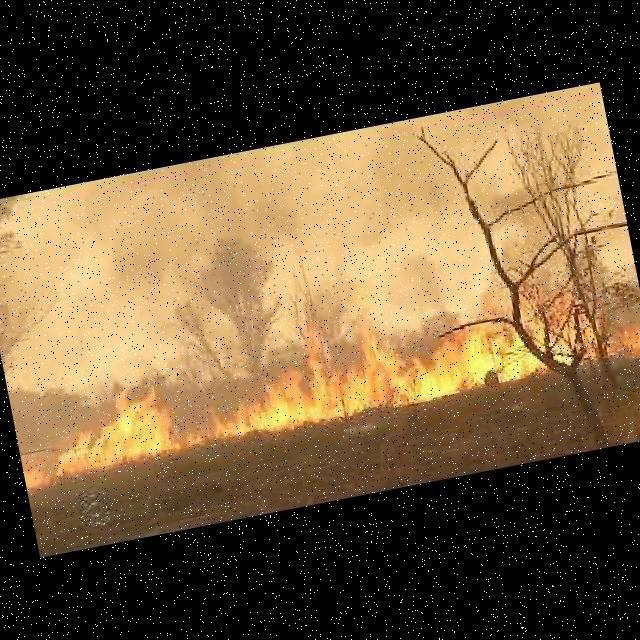Fire: (198, 285, 611, 439), (60, 384, 203, 476), (616, 319, 640, 359)
